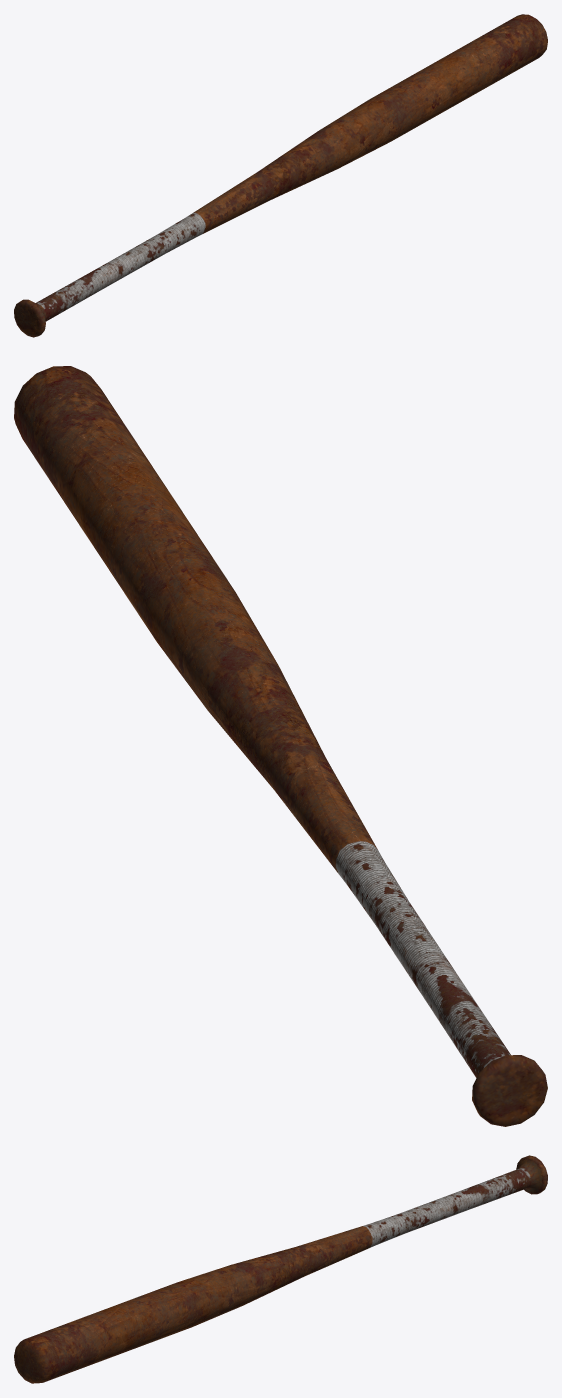
File: Anim_idle_bate_objetos.0023.obj
The picture shows the model from 3 angles, top to bottom: view 1: azimuth 90°, elevation 25°; view 2: azimuth 150°, elevation 25°; view 3: azimuth 270°, elevation 25°; orthographic projection. The views are drawn at different scales.
Visible parts, largest first — view 1: Bate1; view 2: Bate1; view 3: Bate1.
Part boxes in pixels (<box>): Bate1: <box>14,14,547,337</box>; Bate1: <box>14,366,547,1126</box>; Bate1: <box>14,1155,547,1383</box>.
Size of the model in its own units: 4.12 by 0.677 by 3.75.
